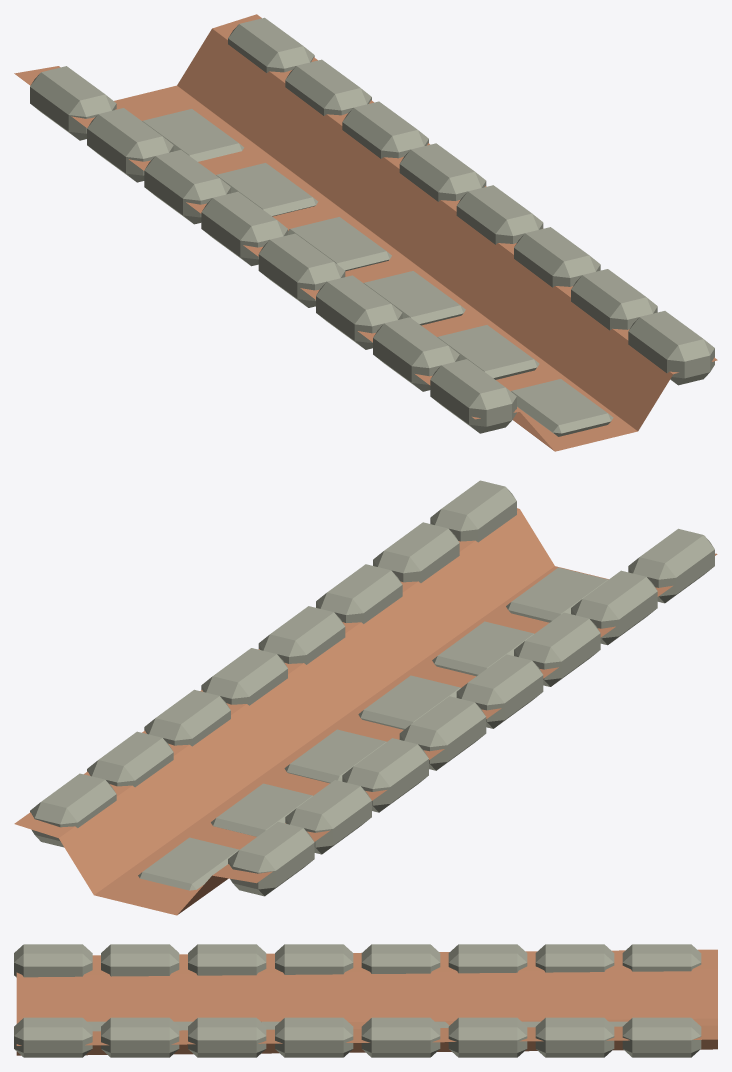
3 views of the same model, one above another, from view 1: azimuth 30°, elevation 25°; view 2: azimuth 150°, elevation 25°; view 3: azimuth 270°, elevation 25° (orthographic). The views are drawn at different scales.
Visible parts, largest first — view 1: BA-0073 batched; view 2: BA-0073 batched; view 3: BA-0073 batched.
Part boxes in pixels (left/top/right/bottom): BA-0073 batched: left=14, top=14, right=717, bottom=451; BA-0073 batched: left=14, top=480, right=717, bottom=915; BA-0073 batched: left=14, top=944, right=717, bottom=1057.
Bounding box in the file's own units: 0.77 × 0.215 × 2.51.
